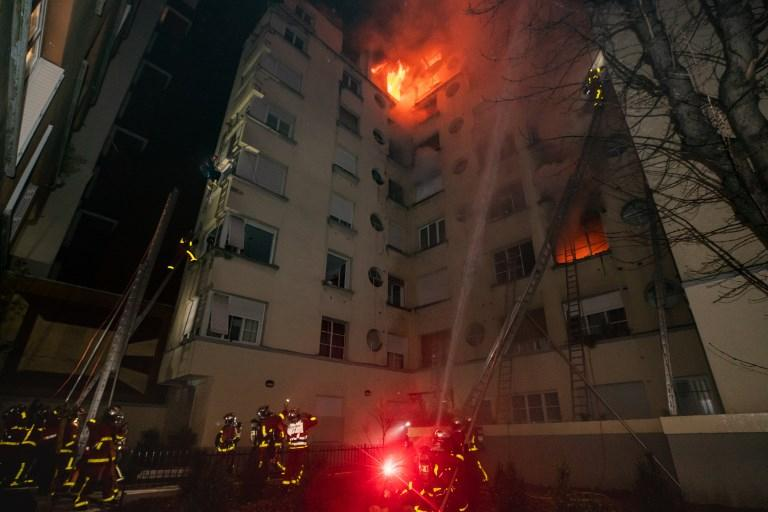Fire: (374, 37, 476, 125)
